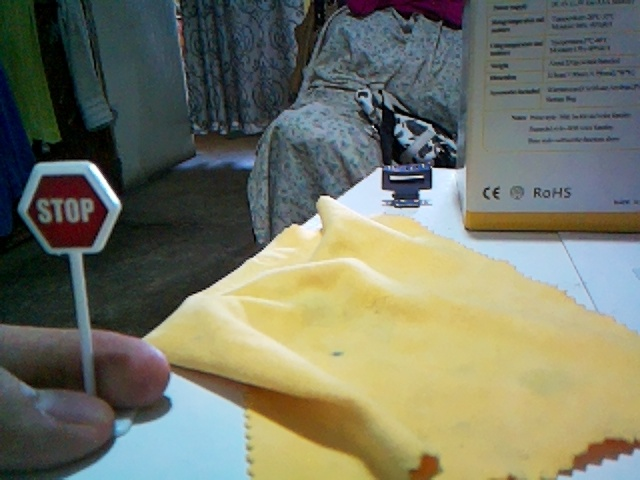stop_sign: (18, 160, 121, 254)
